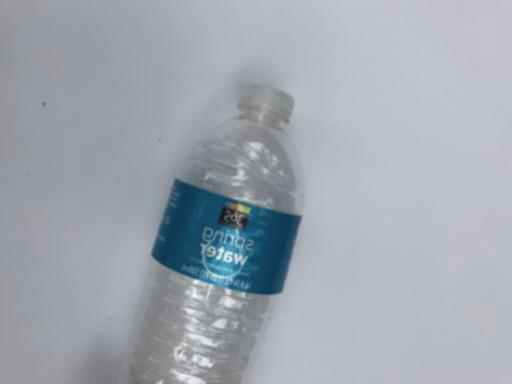PET: (114, 83, 307, 383)
plastic: (114, 83, 307, 383)
water: (114, 83, 307, 383)
